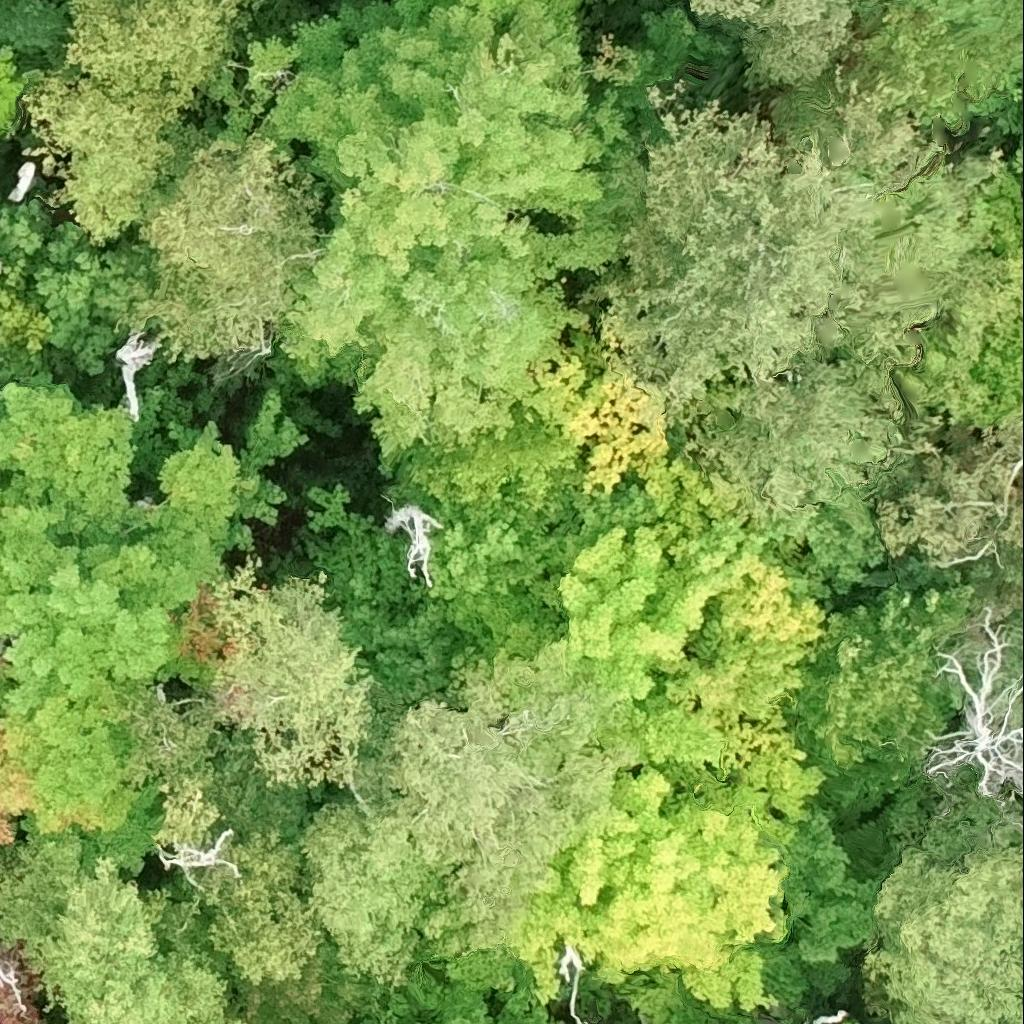crown: (229, 0, 624, 453), (303, 636, 639, 994), (0, 371, 309, 718), (128, 555, 376, 980), (451, 741, 826, 1017), (557, 455, 831, 779), (300, 483, 666, 707), (792, 580, 988, 826), (120, 137, 328, 362), (0, 843, 242, 1023), (23, 64, 208, 246), (0, 676, 164, 878), (0, 198, 155, 387), (865, 839, 1023, 1023), (375, 407, 595, 537), (872, 419, 1023, 588), (530, 341, 686, 503), (761, 802, 886, 1003), (921, 609, 1023, 799), (62, 0, 262, 95), (768, 470, 902, 611), (675, 0, 861, 91), (383, 504, 439, 584), (0, 48, 26, 134), (437, 0, 530, 24), (551, 0, 587, 34), (0, 967, 26, 1007), (0, 669, 13, 710), (846, 1021, 859, 1023)
